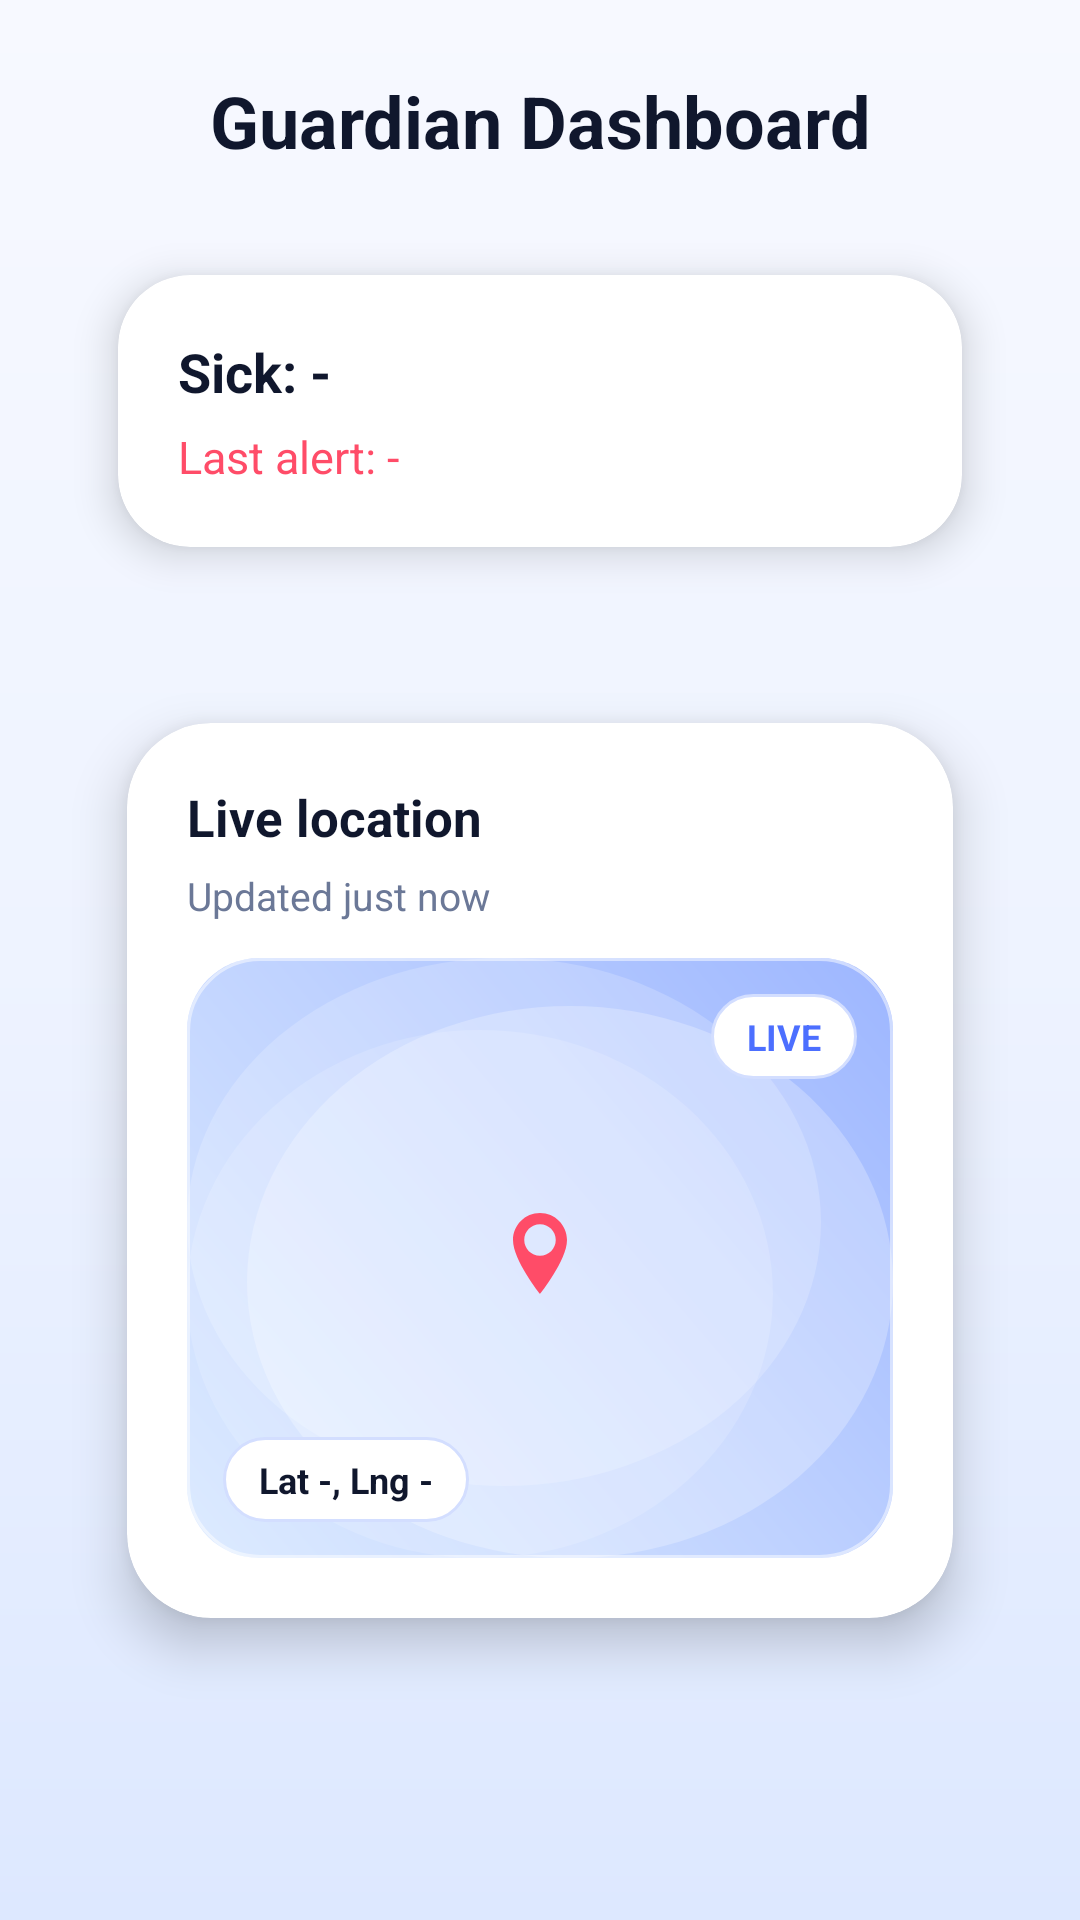

Named icons in this screenshot (1080×1920) and their bounding boxes, (x1, y1, x2, y2):
map pin: (513, 1213, 567, 1294)
